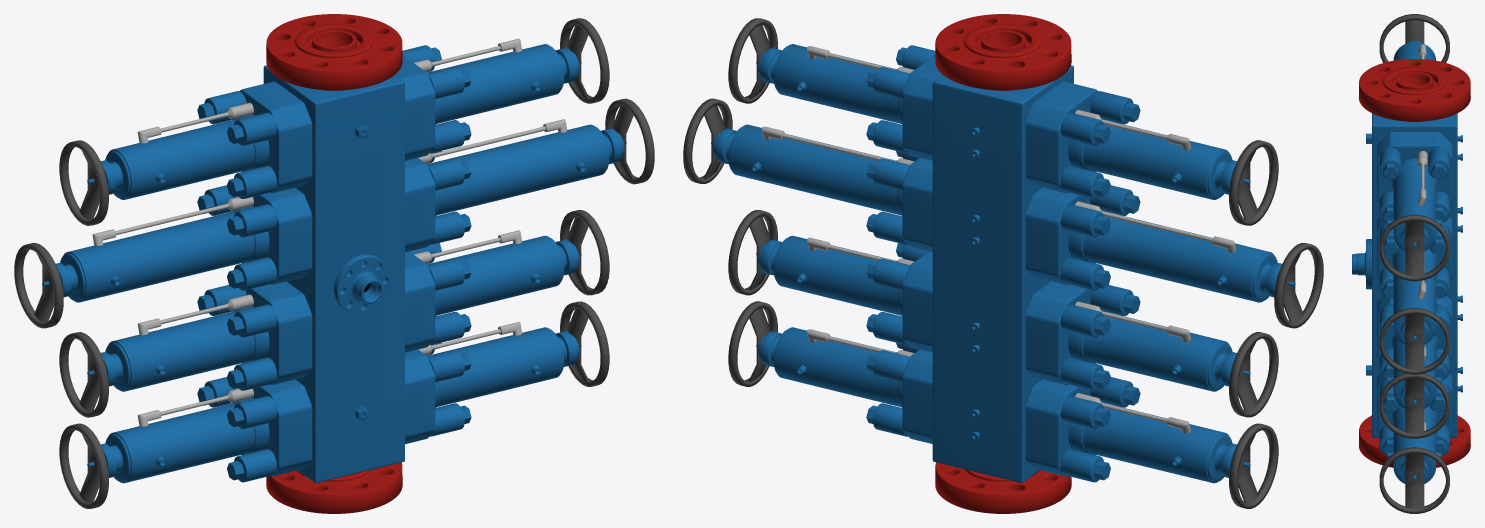
File: BOPv2_01.fbx
The picture shows the model from 3 angles, left to right: view 1: azimuth 30°, elevation 25°; view 2: azimuth 150°, elevation 25°; view 3: azimuth 270°, elevation 25°; orthographic projection. The views are drawn at different scales.
Visible parts, largest first — view 1: QuadBOP.006, QuadBOP.001, QuadBOP, QuadBOP.003; view 2: QuadBOP.006, QuadBOP.001, QuadBOP; view 3: QuadBOP.006, QuadBOP, QuadBOP.001, QuadBOP.003, QuadBOP.005.
Boxes of the visible parts, x1,y1,x2,y2 form: QuadBOP.006: (14, 18, 654, 508); QuadBOP.001: (263, 65, 404, 482); QuadBOP: (266, 14, 402, 513); QuadBOP.003: (334, 254, 390, 313); QuadBOP.006: (683, 18, 1323, 508); QuadBOP.001: (932, 65, 1073, 482); QuadBOP: (935, 14, 1071, 513); QuadBOP.006: (1377, 14, 1452, 513); QuadBOP: (1358, 59, 1470, 467); QuadBOP.001: (1372, 113, 1457, 437); QuadBOP.003: (1352, 239, 1371, 289); QuadBOP.005: (1457, 135, 1462, 392).
Size of the model in its own units: 279 by 199 by 58.38.
